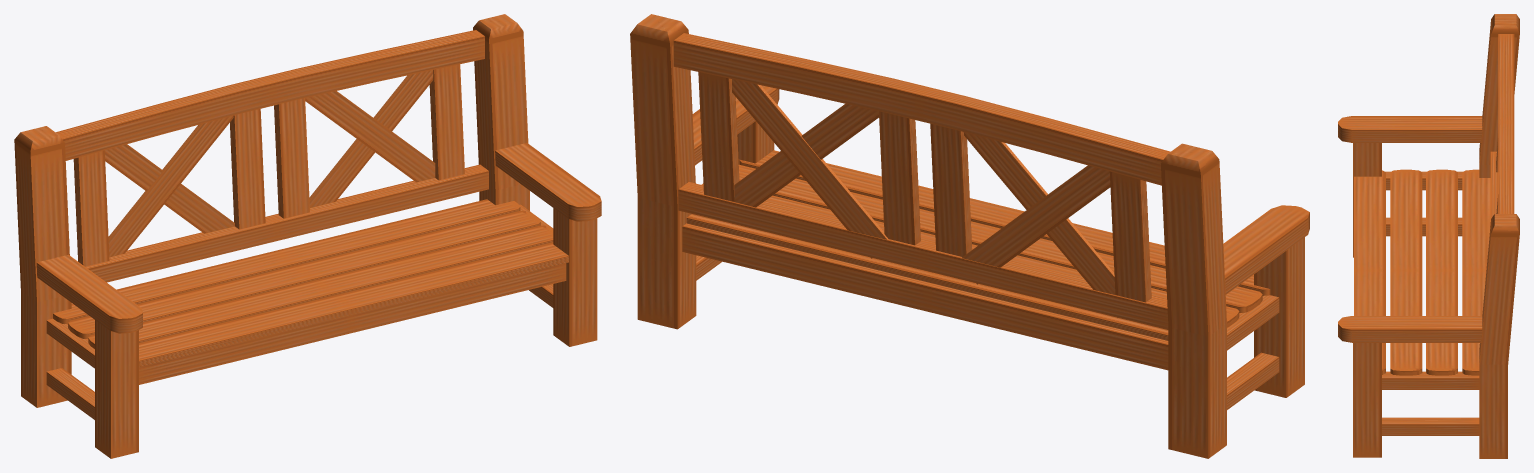
File: Bin (1).fbx
3 views of the same model, side by side, from view 1: azimuth 30°, elevation 25°; view 2: azimuth 150°, elevation 25°; view 3: azimuth 270°, elevation 25° (orthographic). The views are drawn at different scales.
Visible parts, largest first — view 1: Bin (1); view 2: Bin (1); view 3: Bin (1).
Part boxes in pixels (x1=…): Bin (1): x1=14, y1=14, x2=601, y2=458; Bin (1): x1=630, y1=14, x2=1309, y2=458; Bin (1): x1=1338, y1=14, x2=1519, y2=458.
Bounding box in the file's own units: 1.19 × 0.5979 × 0.425.
